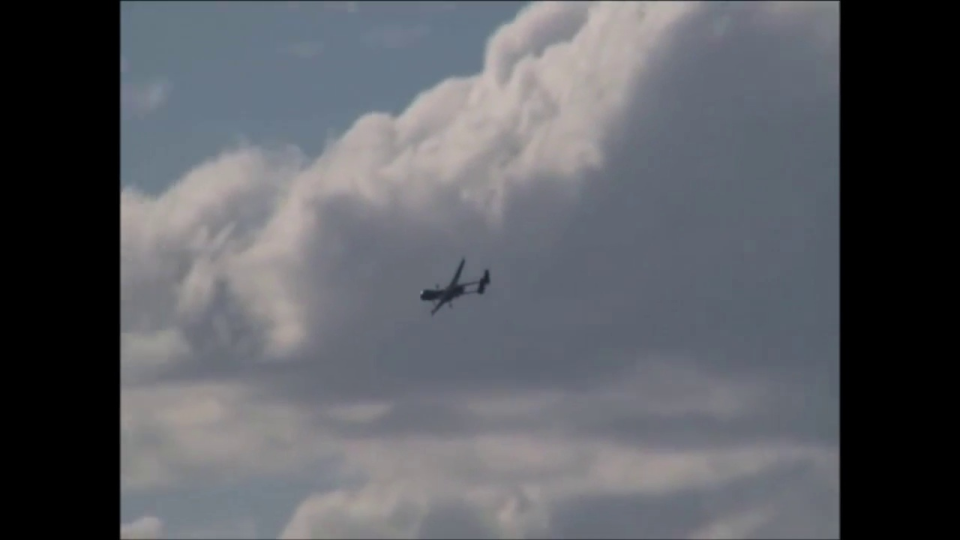military drone: (419, 256, 491, 315)
